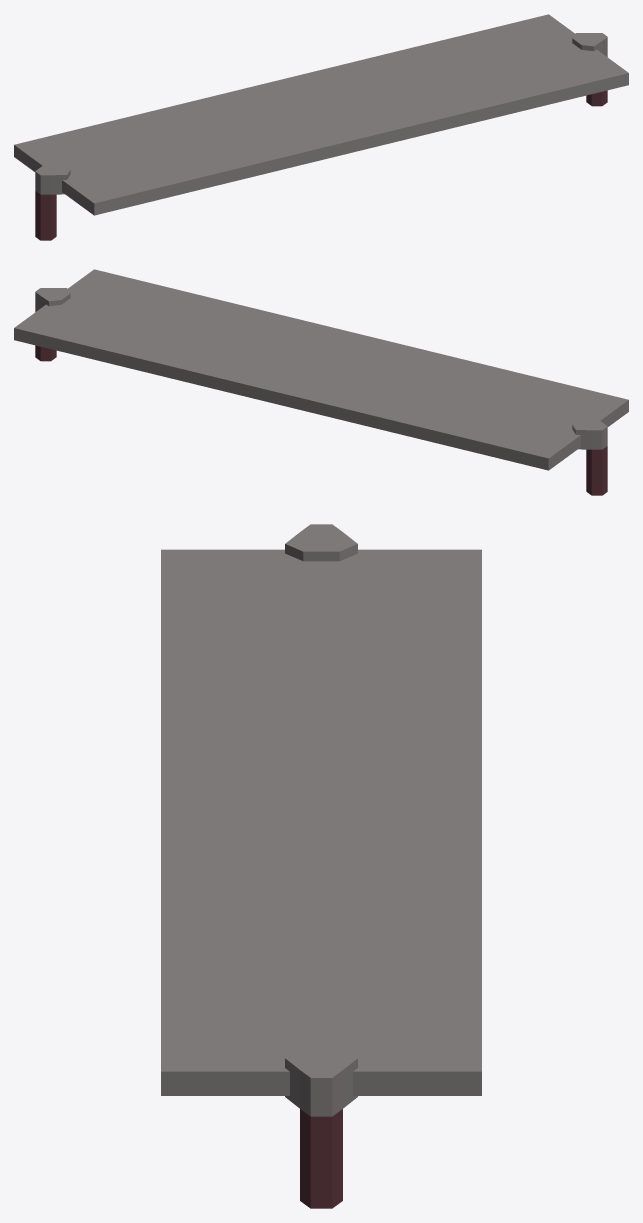
File: scifi-hydroponic-shelf-top.fbx
3 renders of one model, top to bottom at view 1: azimuth 30°, elevation 25°; view 2: azimuth 150°, elevation 25°; view 3: azimuth 270°, elevation 25°, orthographic. The views are drawn at different scales.
Visible parts, largest first — view 1: scifi-hydroponic-shelf-top; view 2: scifi-hydroponic-shelf-top; view 3: scifi-hydroponic-shelf-top.
Boxes of the visible parts, bbox=[...] form: scifi-hydroponic-shelf-top: bbox=[14, 14, 628, 240]; scifi-hydroponic-shelf-top: bbox=[14, 269, 628, 495]; scifi-hydroponic-shelf-top: bbox=[161, 524, 481, 1208].
Bounding box in the file's own units: 2.45 × 0.27 × 0.6.
